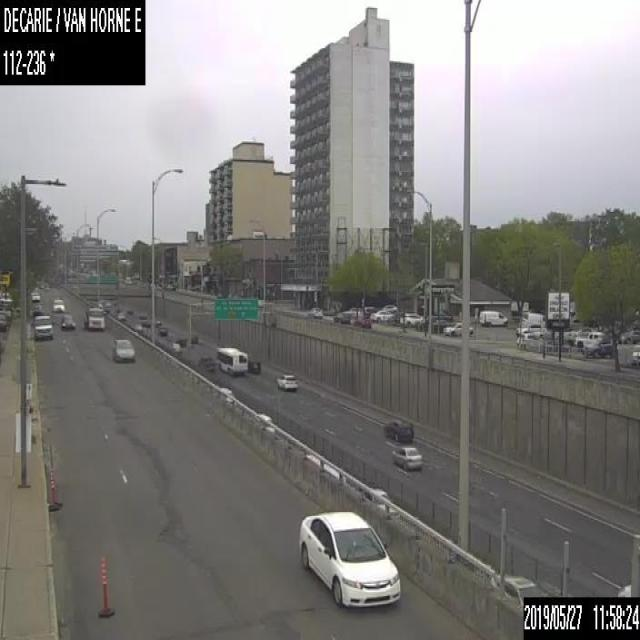bus: (216, 346, 246, 374)
construction: (97, 553, 114, 616), (43, 447, 58, 509)
vehicle: (296, 507, 402, 608), (491, 572, 548, 608), (302, 454, 345, 486), (358, 486, 397, 517), (582, 336, 618, 359), (391, 446, 423, 470), (382, 419, 414, 441), (575, 330, 604, 350), (84, 302, 105, 329), (111, 338, 134, 362), (32, 314, 53, 340), (442, 321, 472, 336), (215, 385, 236, 406), (253, 413, 274, 434), (196, 354, 217, 374), (479, 310, 507, 325), (276, 371, 298, 389), (399, 311, 422, 326), (516, 322, 540, 335), (430, 318, 451, 332), (333, 311, 355, 324), (350, 314, 370, 328), (522, 312, 542, 326), (370, 309, 392, 321), (61, 313, 75, 330), (165, 340, 181, 354), (616, 582, 630, 596), (624, 329, 639, 342), (51, 298, 64, 312), (363, 305, 378, 317), (31, 301, 43, 315), (306, 307, 322, 317), (379, 303, 396, 312), (344, 305, 360, 314), (247, 360, 259, 372), (0, 312, 6, 330), (31, 292, 40, 302), (132, 322, 141, 332), (160, 324, 167, 334), (116, 312, 124, 319)
